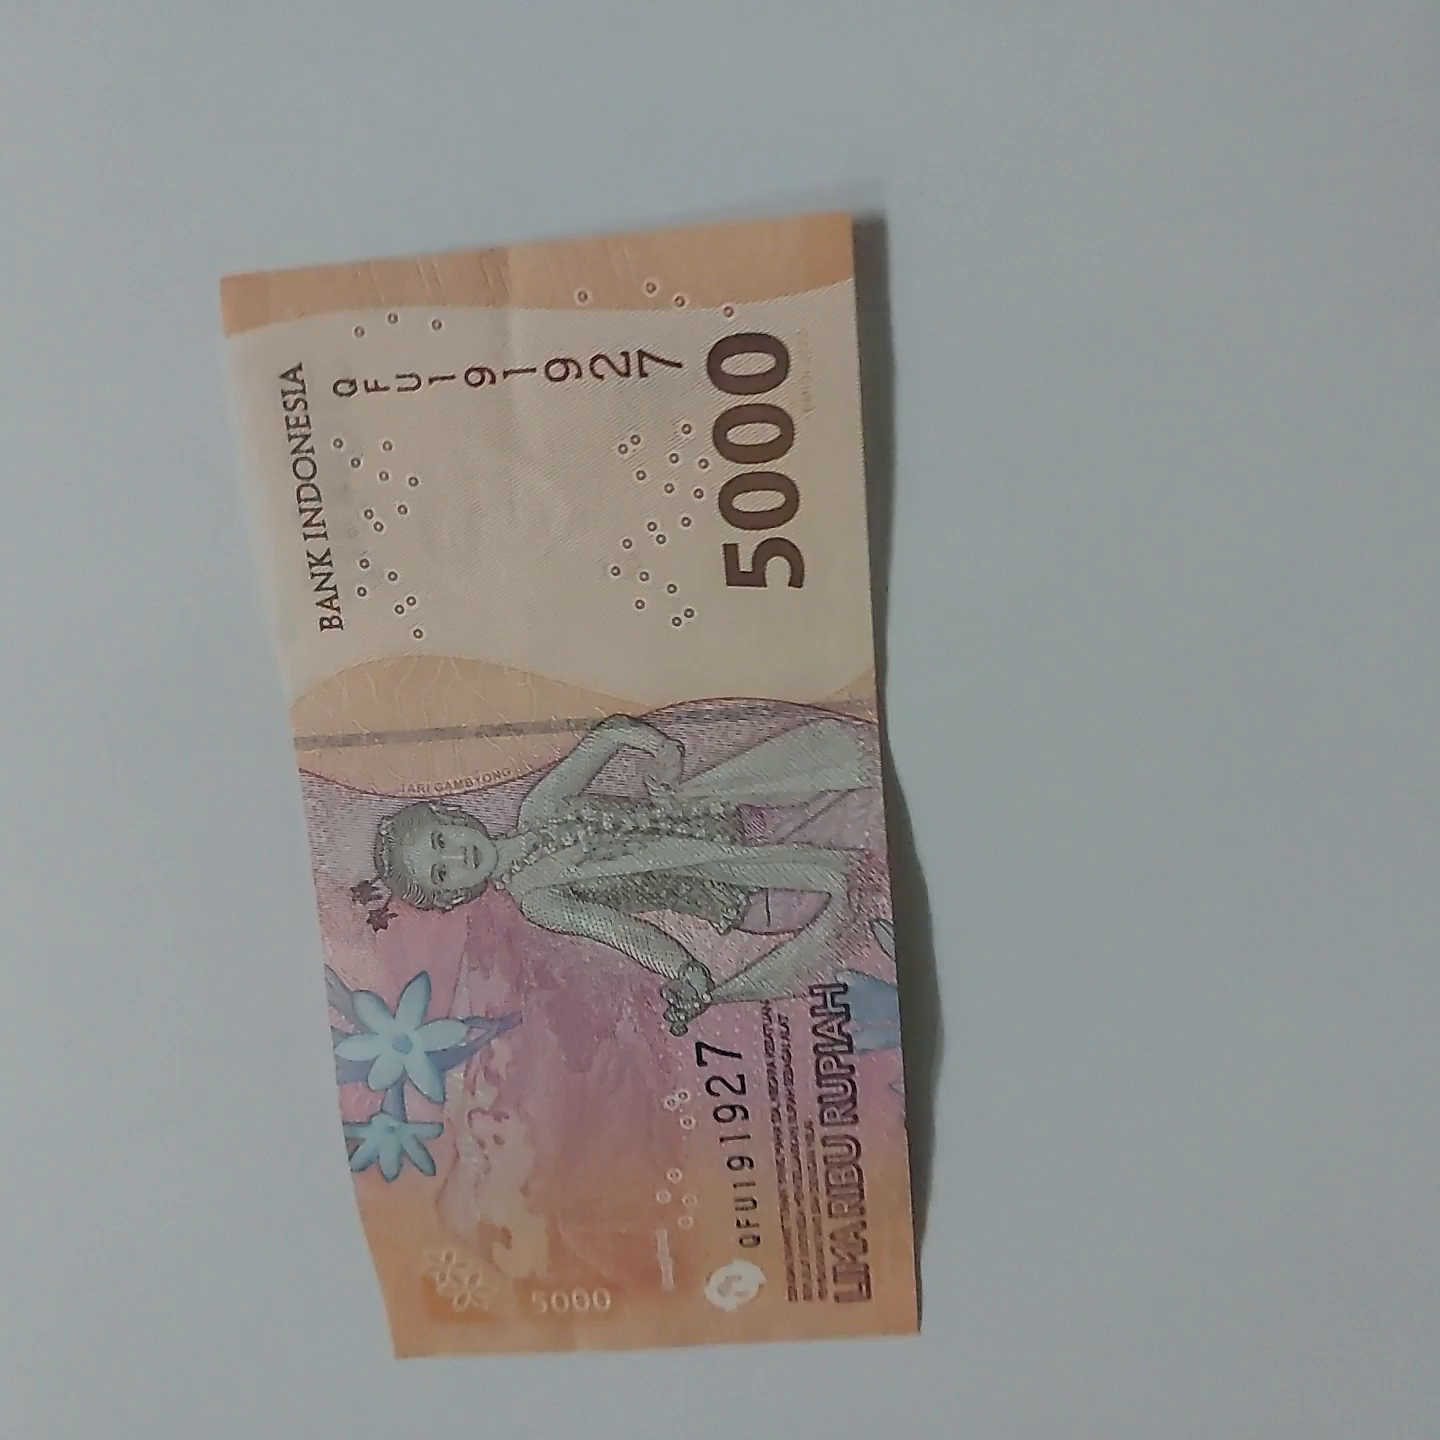5k: (198, 200, 960, 1357)
